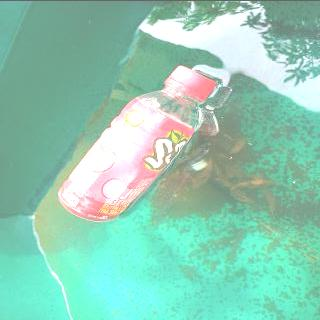bottle: (55, 64, 218, 222)
